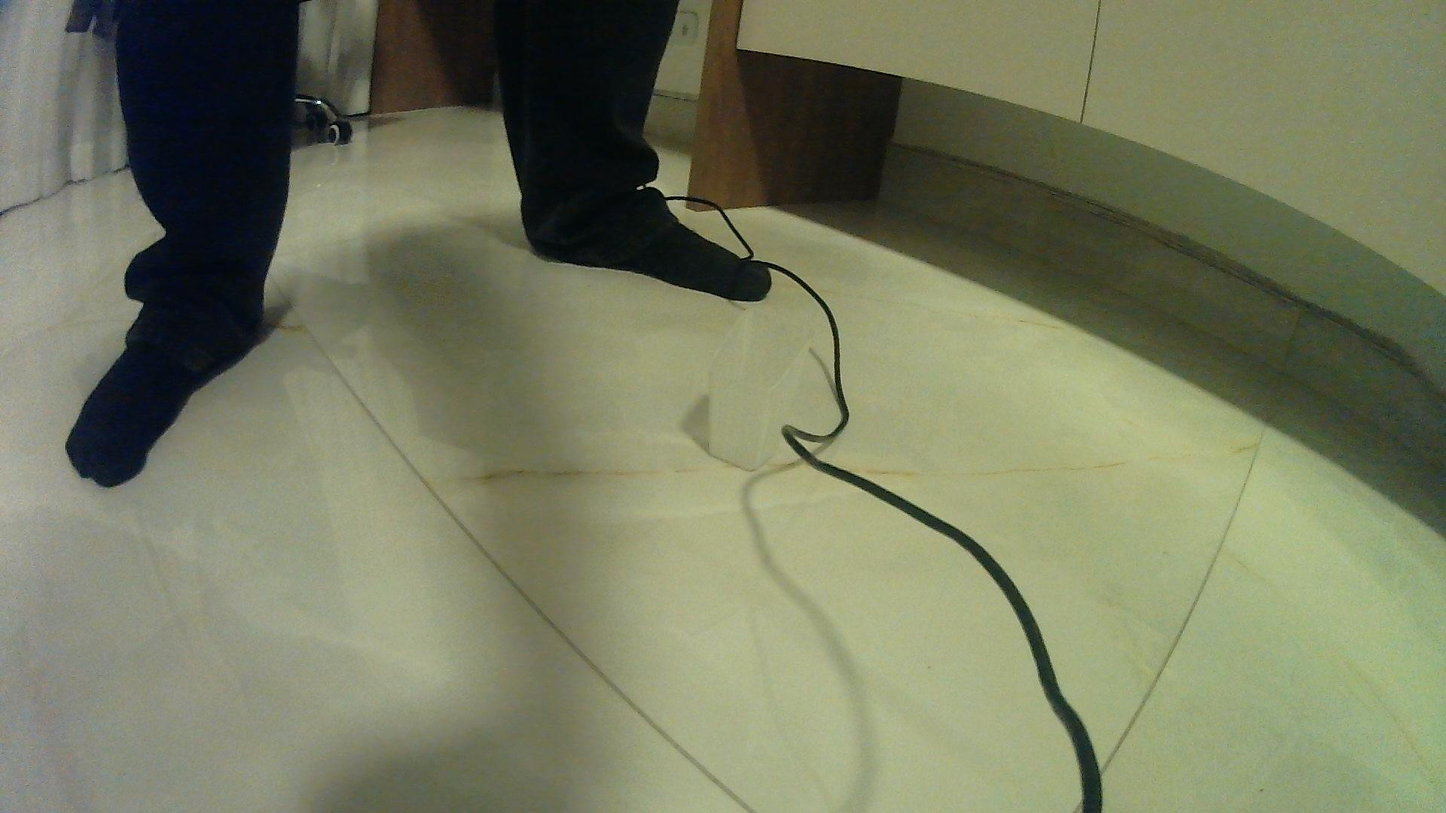erva_daninha: (693, 300, 819, 474)
